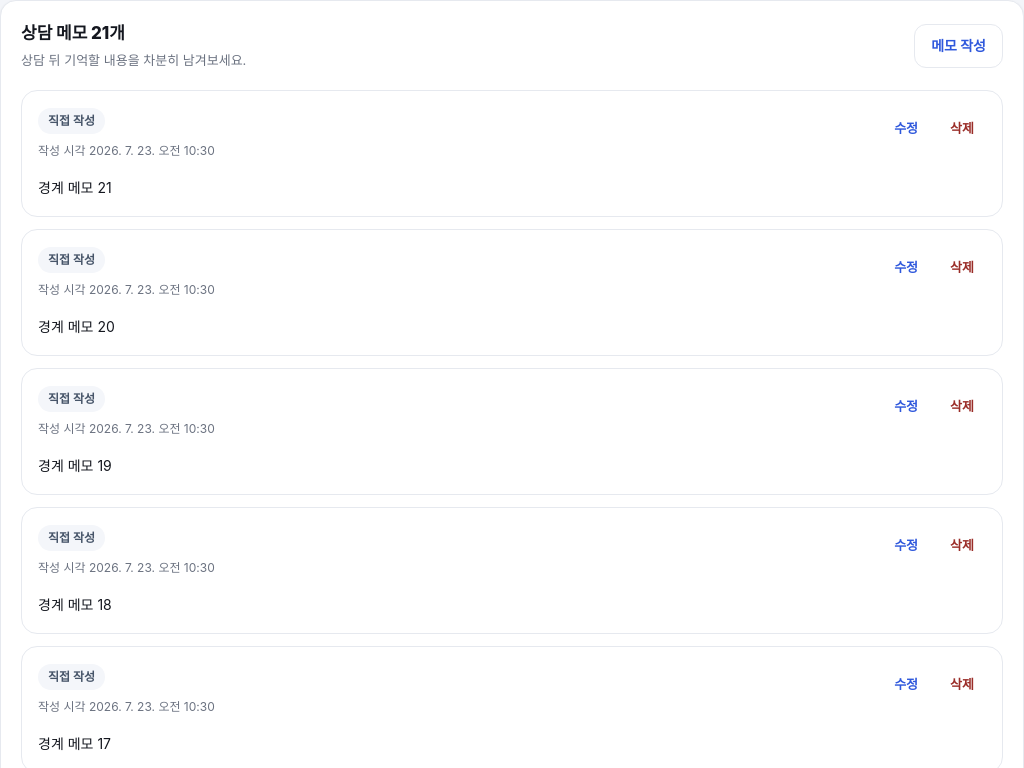
상담 메모 신뢰성 › 21개 첫 페이지에서 삭제하면 당겨진 마지막 메모까지 다시 맞춘다
Expected: the text "경계 메모 21" is shown, [38,179,112,196]
Click the button with aria-label "메모 삭제: 경계 메모 21" at [962, 129], box [938,107,986,151]
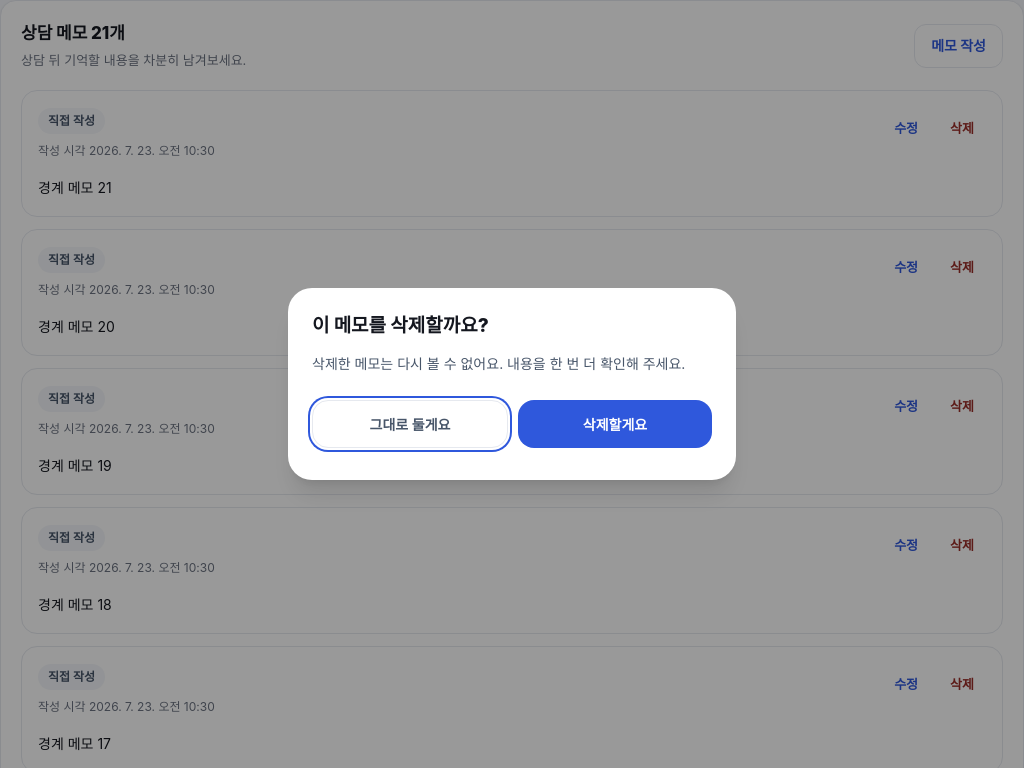
Click the button "삭제할게요" at [615, 424], box [518,400,712,448]
(page scrolled)
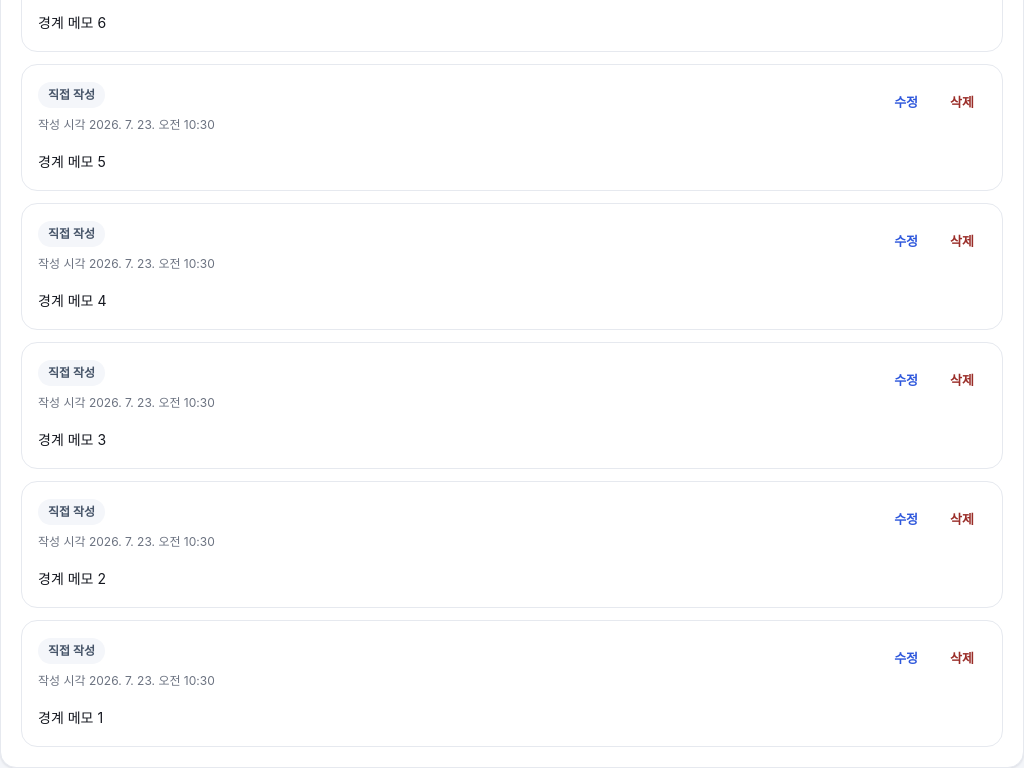
Now the text "경계 메모 1" is shown, box [38,709,103,726]
